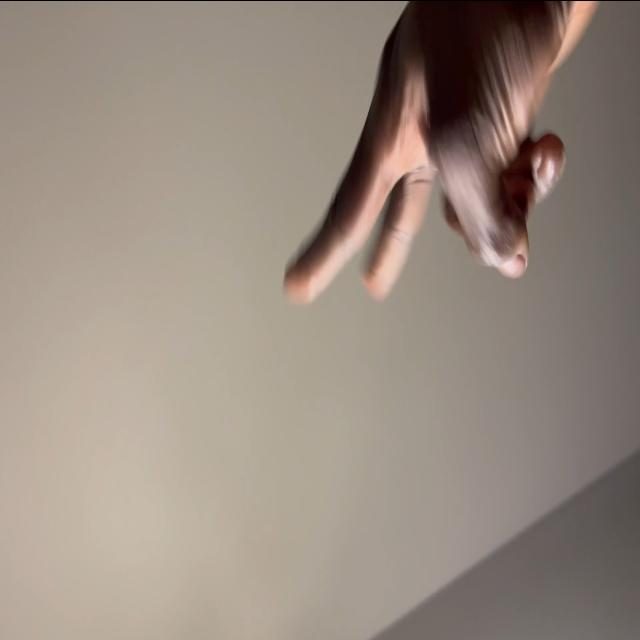Scissors: (284, 0, 596, 304)
